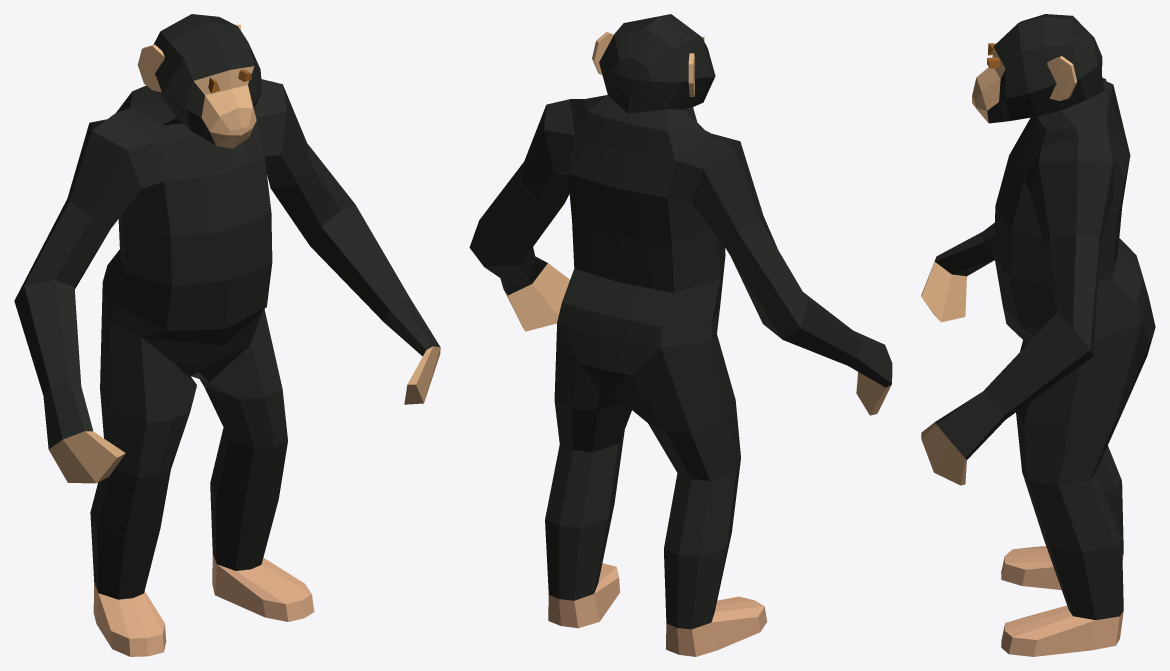
File: chimp.obj
3 views of the same model, side by side, from view 1: azimuth 30°, elevation 25°; view 2: azimuth 150°, elevation 25°; view 3: azimuth 270°, elevation 25° (orthographic).
Visible parts, largest first — view 1: Mesh_Chimpanzee; view 2: Mesh_Chimpanzee; view 3: Mesh_Chimpanzee.
Boxes of the visible parts, left/top/right/bottom form: Mesh_Chimpanzee: left=14, top=14, right=440, bottom=656; Mesh_Chimpanzee: left=469, top=14, right=892, bottom=656; Mesh_Chimpanzee: left=921, top=14, right=1155, bottom=656.
Bounding box in the file's own units: 80.29 × 118 × 42.09.
